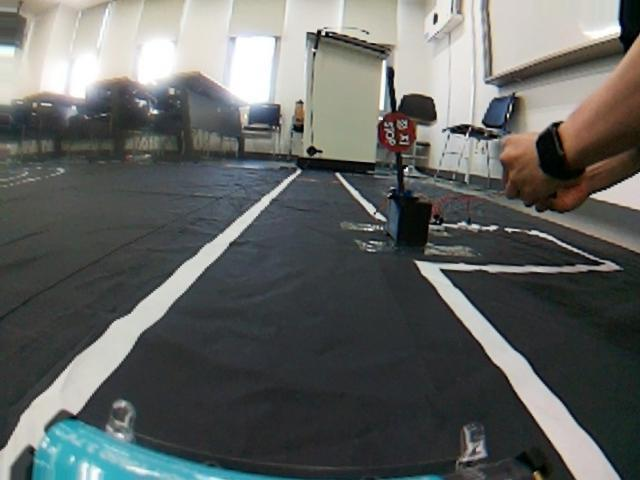sign_stop: (376, 111, 420, 154)
straight: (11, 286, 640, 470)
